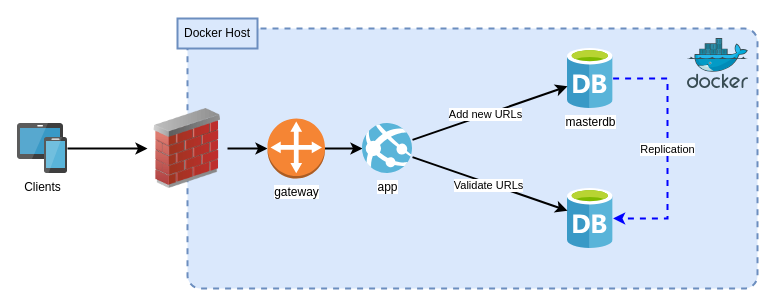
This 775x306 diagram has some shape labels left out. The shapes that lost their labels are listed below. From the top down, each one's centre as x and y in pixels, then its label:
At pixel 187 148: "Docker Firewall".
At pixel 590 218: "slavedb".
